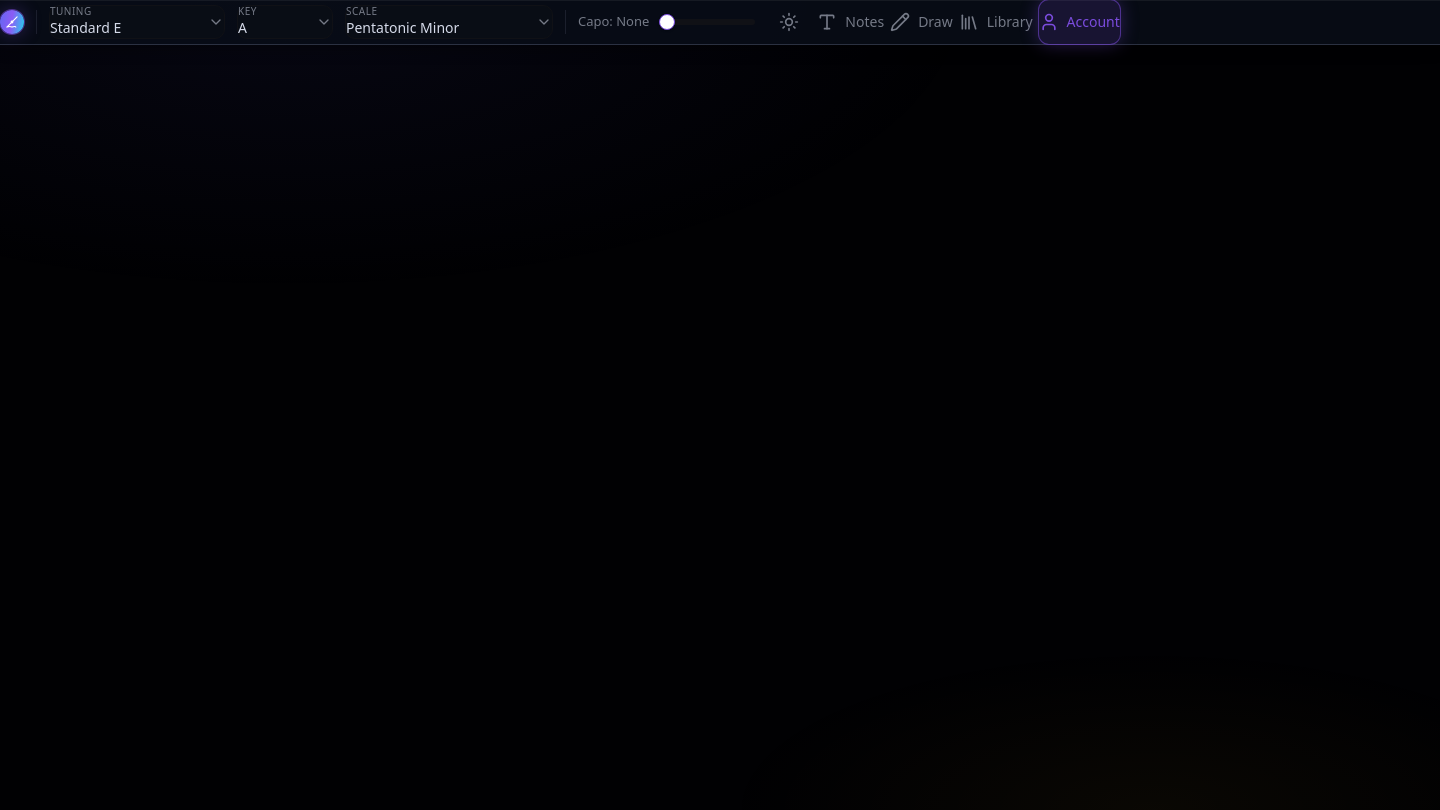
it: ControlBar — account/auth › theme picker (Story 4.5) › clicking a locked premium theme in the Account sheet opens the paywall card
Click the button labelled "Account".
click(1079, 22)  # box [1039,0,1120,44]
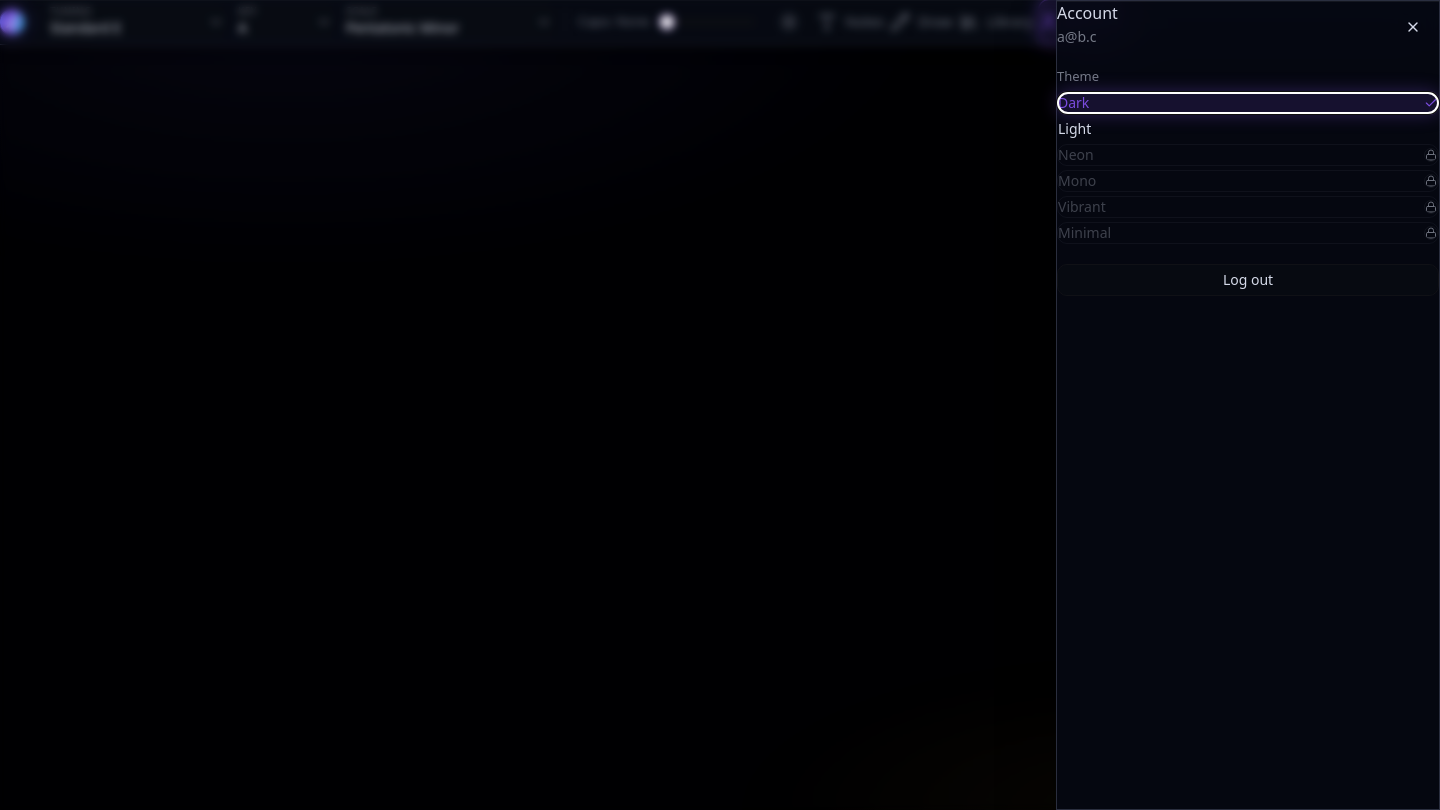
Click the option "Neon".
click(1076, 154)  # box [1057,144,1439,166]
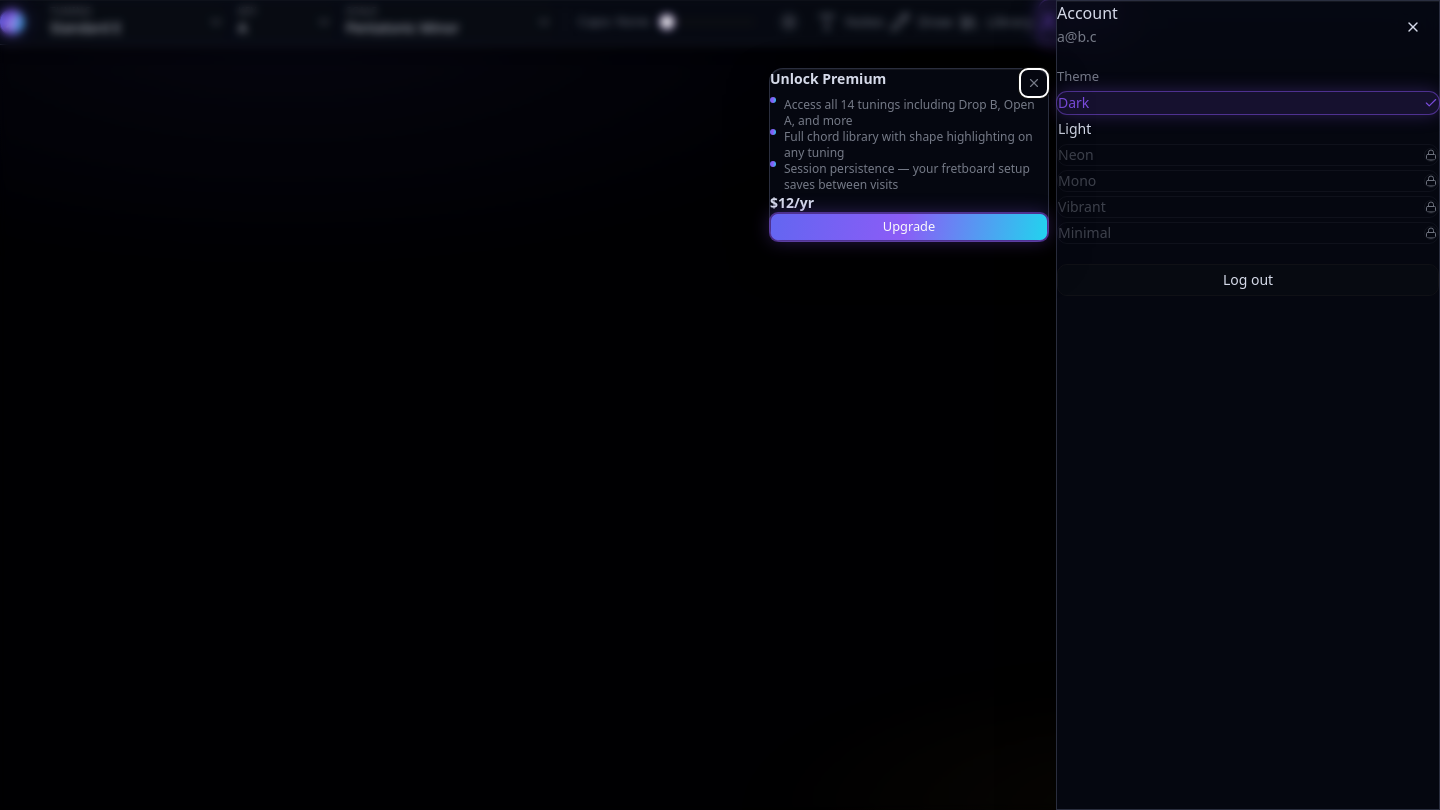
Expected: the dialog with test id "paywall-card" is shown, [769,68,1049,242]
